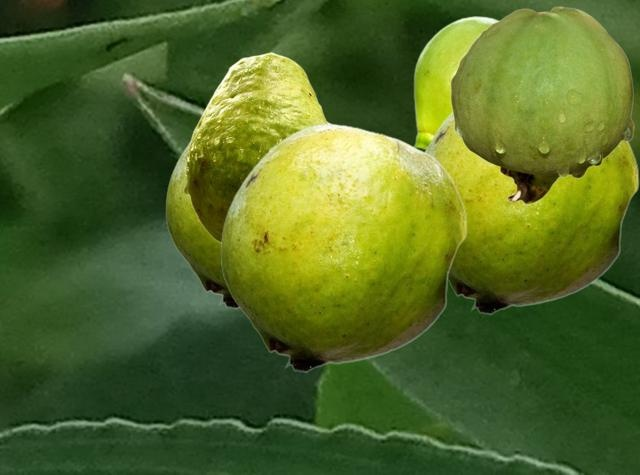guava: (220, 123, 466, 372), (424, 112, 638, 314), (450, 6, 633, 203), (165, 121, 334, 308), (183, 52, 328, 242), (411, 16, 498, 150)
